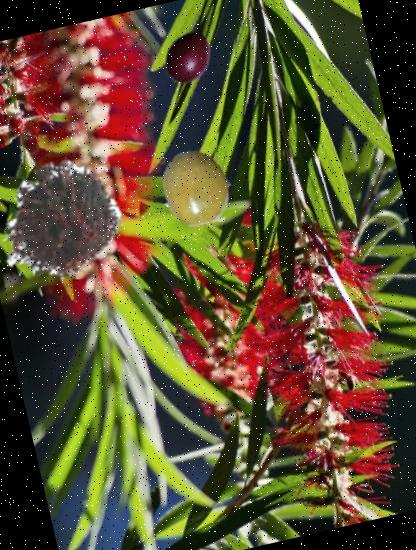Maracuja: (150, 142, 242, 234)
Rambutan: (0, 143, 135, 299)
Tamarillo: (152, 23, 223, 94)
